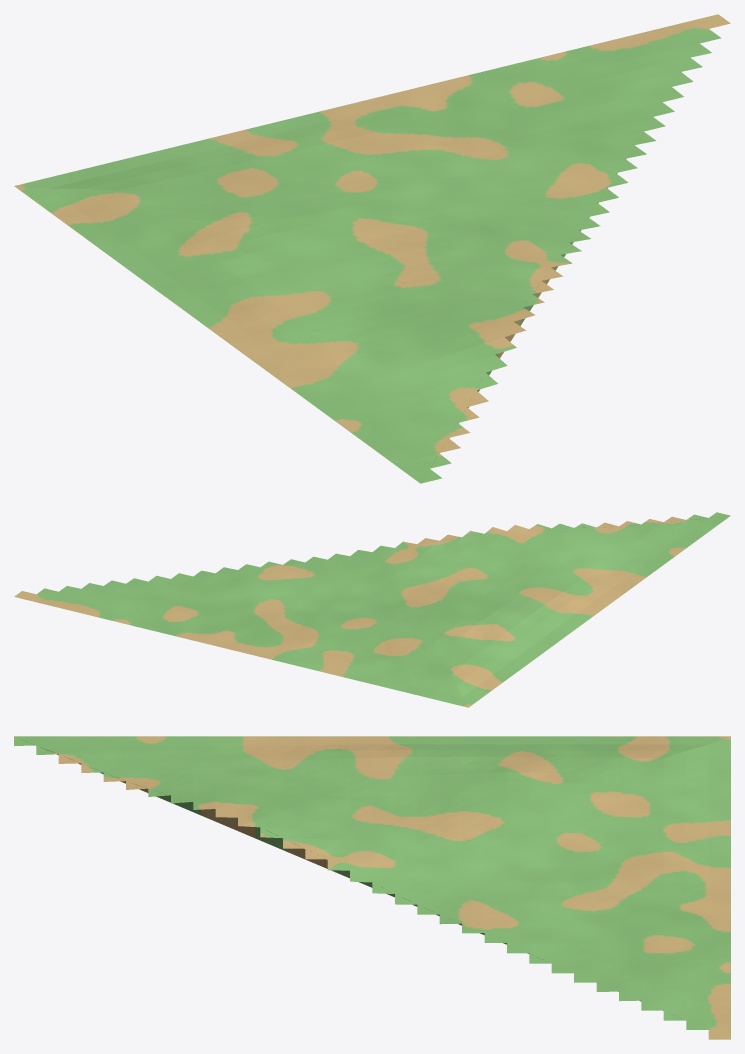
File: Grass_Flat_11_SW.obj
3 views of the same model, one above another, from view 1: azimuth 30°, elevation 25°; view 2: azimuth 150°, elevation 25°; view 3: azimuth 270°, elevation 25° (orthographic). The views are drawn at different scales.
Size of the model in its own units: 10 by 0.2236 by 10.
1 material, 1 textured.
